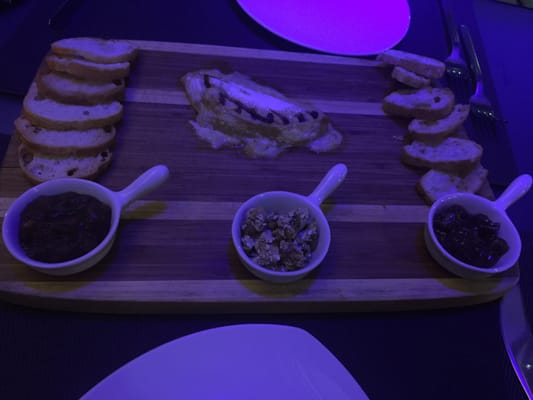sushi: (424, 173, 531, 280), (231, 190, 332, 284)
